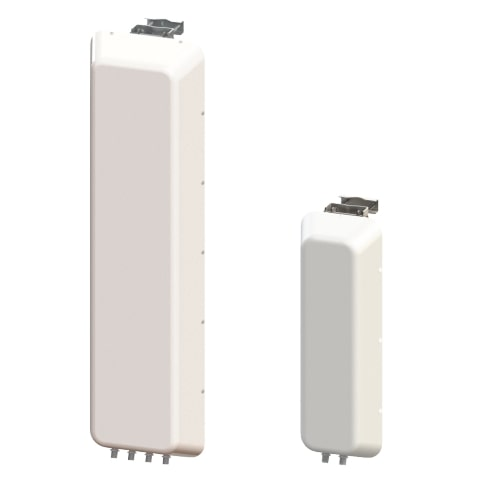sa: (71, 16, 222, 460), (291, 176, 387, 464)
